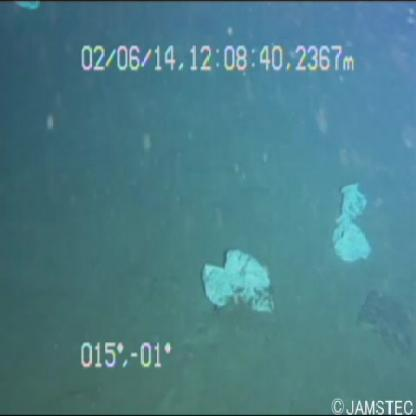Rác: (193, 236, 273, 324), (330, 167, 380, 274)
